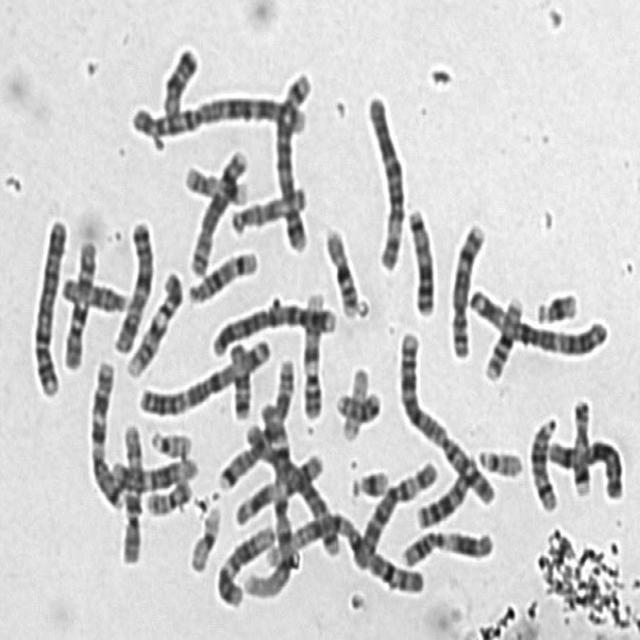A1: (257, 505, 430, 598), (240, 404, 300, 600)
A2: (392, 323, 499, 509), (122, 83, 313, 143)
A3: (133, 329, 273, 418), (462, 278, 610, 360)
B4: (205, 291, 339, 360), (24, 208, 70, 399)
B5: (247, 430, 339, 560), (269, 62, 314, 255)
C10: (57, 232, 99, 372), (114, 414, 146, 566)
C11: (228, 444, 326, 528), (396, 520, 498, 568)
C12: (210, 512, 278, 610), (106, 447, 200, 492)
C6: (344, 451, 440, 570), (358, 83, 408, 274)
C7: (214, 349, 296, 492), (82, 352, 127, 512)
C8: (183, 139, 249, 280), (444, 213, 488, 361)
C9: (120, 263, 185, 380), (296, 283, 328, 422)
D13: (410, 451, 480, 530), (401, 198, 437, 319)
D14: (182, 242, 261, 305), (523, 408, 561, 514)
D15: (224, 176, 308, 237), (56, 267, 129, 315)
E16: (478, 287, 526, 382), (318, 217, 362, 320)
E17: (179, 156, 250, 206), (565, 390, 594, 499)
E18: (155, 36, 202, 118), (225, 333, 253, 421)
F19: (183, 496, 223, 575), (335, 358, 371, 442)
F20: (140, 469, 194, 517), (330, 381, 382, 424)
G21: (530, 282, 580, 326), (344, 459, 392, 500)
G22: (472, 439, 526, 480), (143, 420, 194, 459)
X: (108, 210, 156, 356), (542, 430, 626, 501)
